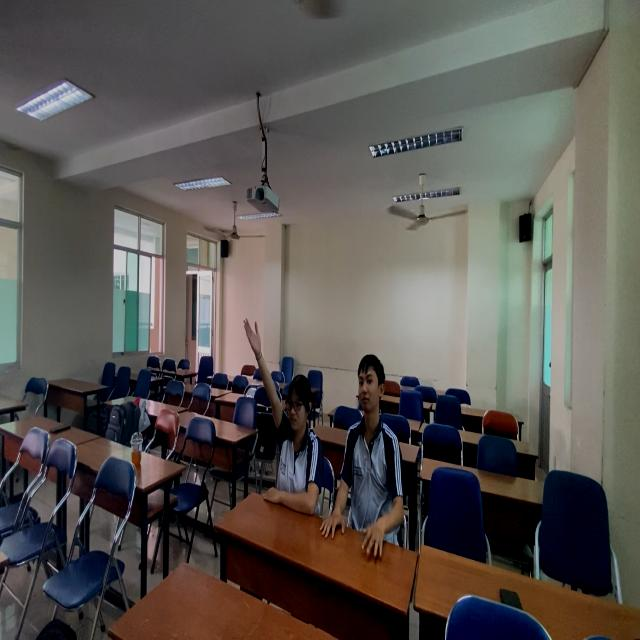raise_hand: (241, 315, 319, 515)
